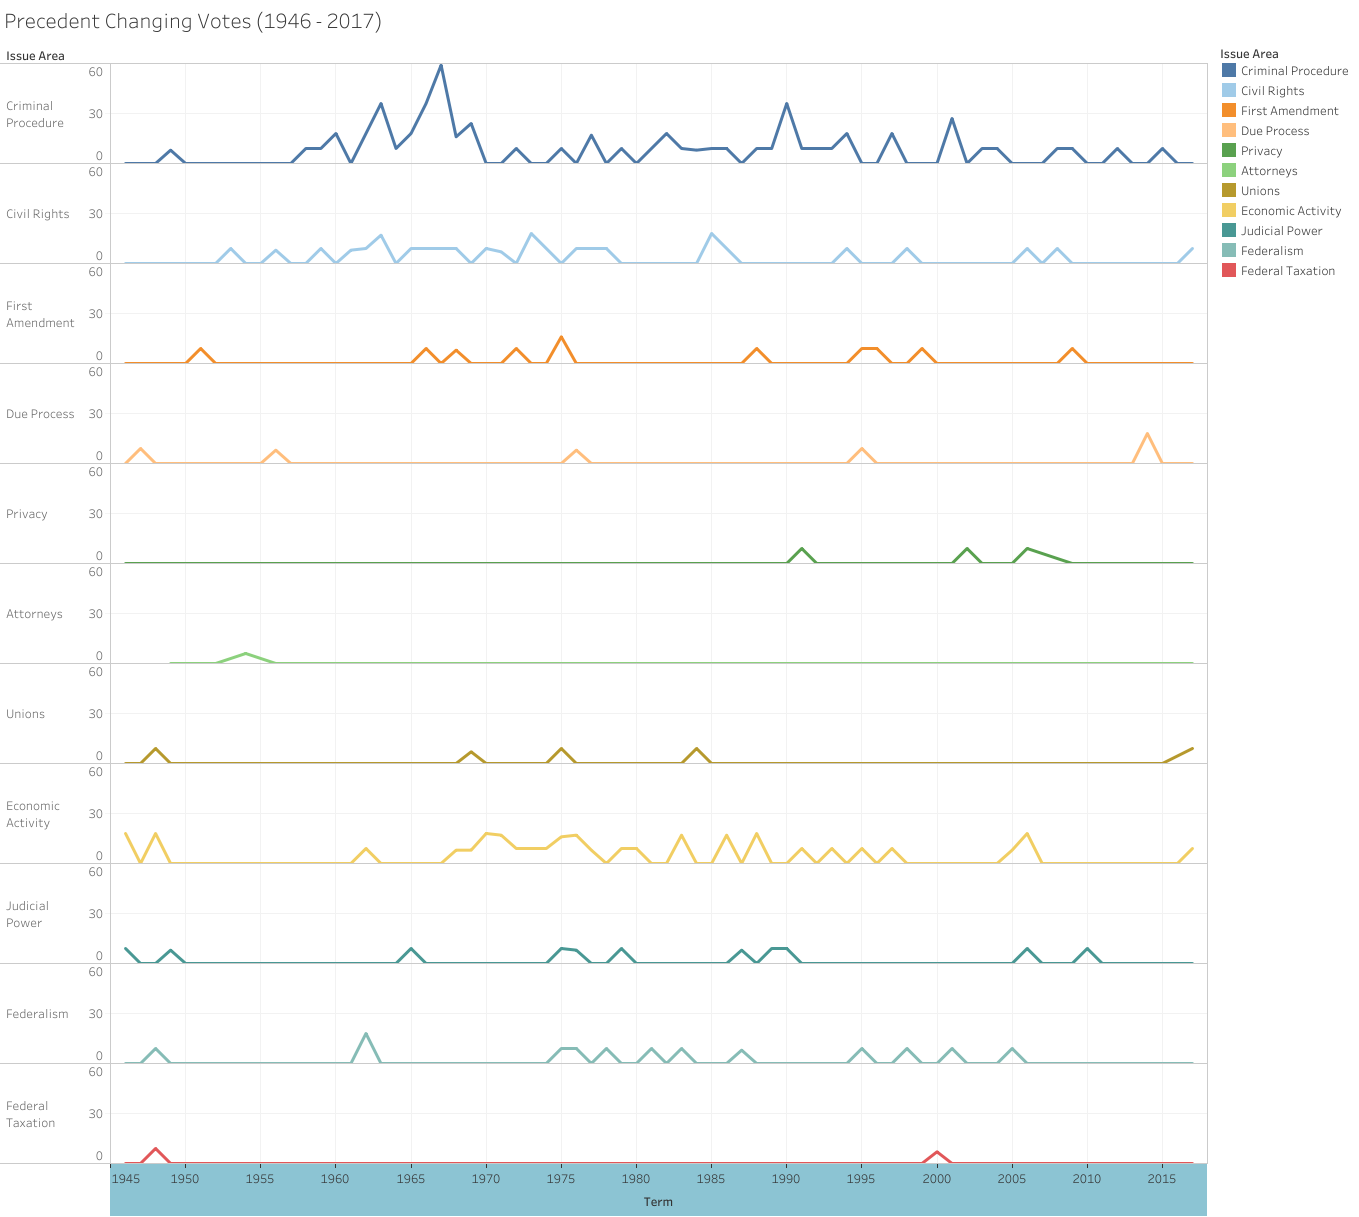

This screenshot's page, from the dashboard's own definition file:
{"tool":"tableau","page":{"name":"Dashboard 1","canvas":[1000,1000],"units":"permille","ordinal":0},"visuals":[{"type":"legend","title":"Sheet 1","param":"[federated.1xqbuif0zy7qie17waup21fe5cdu].[none:vote_direction:ok]","box":[5.9,6.4,104,119.9]},{"type":"worksheet","title":"Sheet 1","mark":"Automatic","rows":["vote_direction"],"cols":["justiceName"],"box":[78,7.8,529.2,316.9]},{"type":"filter","title":"Sheet 1","param":"[federated.1xqbuif0zy7qie17waup21fe5cdu].[none:issueArea:ok]","box":[488.5,14.7,94.5,28.2]},{"type":"filter","title":"Sheet 3","param":"[federated.1xqbuif0zy7qie17waup21fe5cdu].[none:justiceName:nk]","box":[490.2,331.3,142.3,52.4]},{"type":"worksheet","title":"Sheet 3","mark":"Automatic","rows":["precedentAlteration"],"cols":["issueArea"],"box":[72.1,351.2,560.5,324.7]},{"type":"worksheet","title":"Sheet 4","mark":"Automatic","rows":["Number of Records"],"cols":["justiceName","term"],"box":[2.4,680.7,659.2,306]}]}

Visuals, with their boxes on the dashboard's canvas, which has no fixed pixel size, in thousandths of its width and height (x1, y1, x2, y2). These are canvas units, not pixel positions in the 1359x1217 screenshot, which may show the page scaled, cropped or inside an application window:
"Sheet 1" legend: 6 6 110 126
"Sheet 1" worksheet: 78 8 607 325
"Sheet 1" filter: 488 15 583 43
"Sheet 3" filter: 490 331 632 384
"Sheet 3" worksheet: 72 351 633 676
"Sheet 4" worksheet: 2 681 662 987
